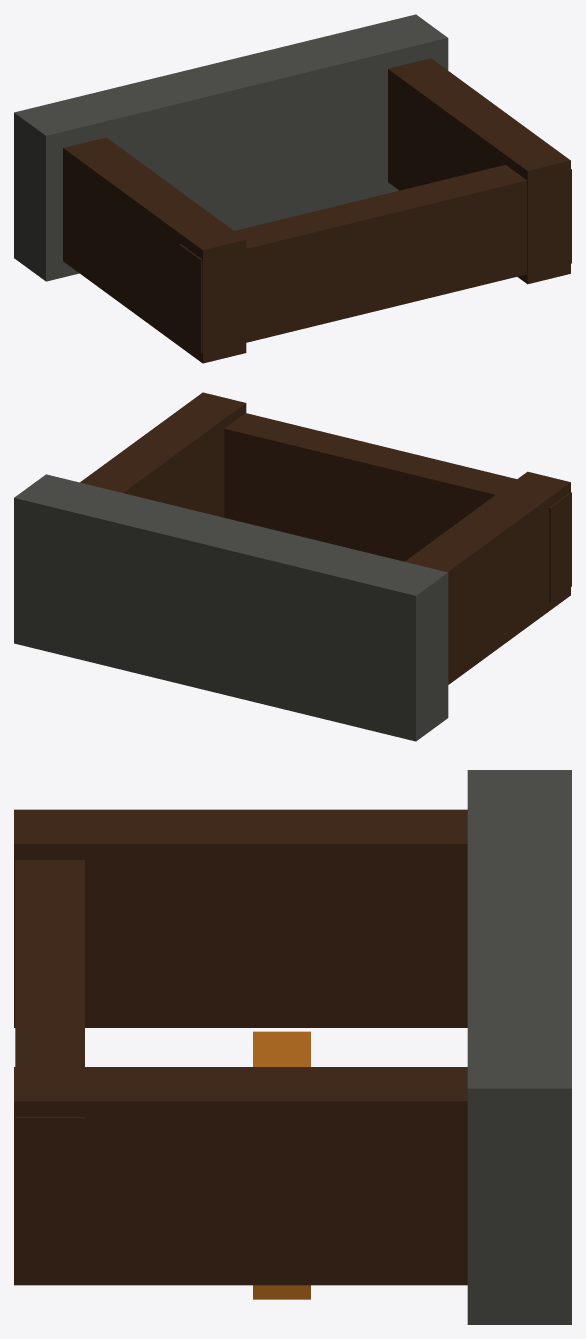
The model's file is SM_RivSmithyRack.obj.
3 renders of one model, top to bottom at view 1: azimuth 30°, elevation 25°; view 2: azimuth 150°, elevation 25°; view 3: azimuth 270°, elevation 25°, orthographic. The views are drawn at different scales.
Parts seen in each view (by area): view 1: SM_RivSmithyRack; view 2: SM_RivSmithyRack; view 3: SM_RivSmithyRack.
Part boxes in pixels (left/top/right/bottom): SM_RivSmithyRack: left=14, top=14, right=571, bottom=363; SM_RivSmithyRack: left=14, top=392, right=571, bottom=741; SM_RivSmithyRack: left=14, top=770, right=571, bottom=1324.
Size of the model in its own units: 260 by 99 by 192.
